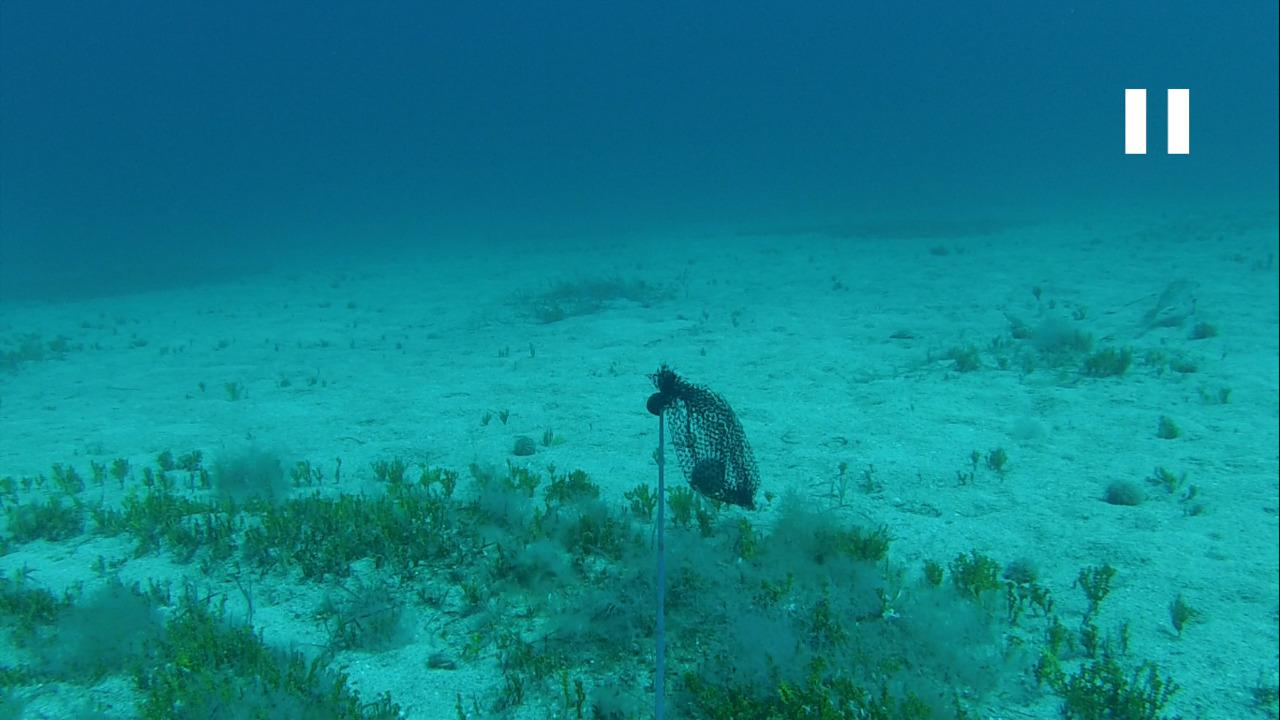dactylopterus: (1123, 275, 1196, 339)
